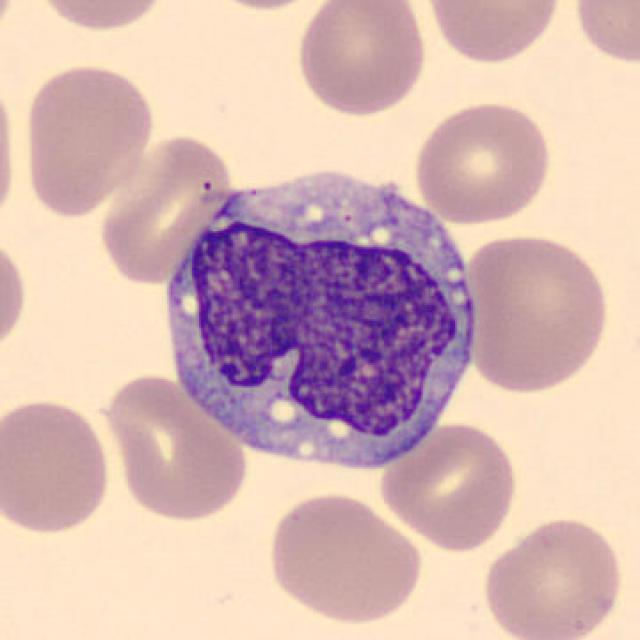Monocyte: (149, 155, 489, 478)
RBC: (462, 229, 614, 397), (96, 368, 251, 526), (94, 130, 238, 288), (263, 488, 425, 628), (18, 58, 158, 219), (377, 418, 521, 554), (480, 513, 628, 640), (410, 97, 554, 227), (0, 395, 114, 538), (294, 0, 431, 118), (422, 0, 566, 67), (28, 0, 175, 35), (569, 0, 640, 69), (0, 230, 30, 362), (0, 68, 21, 232), (190, 0, 331, 14), (0, 0, 19, 49)
